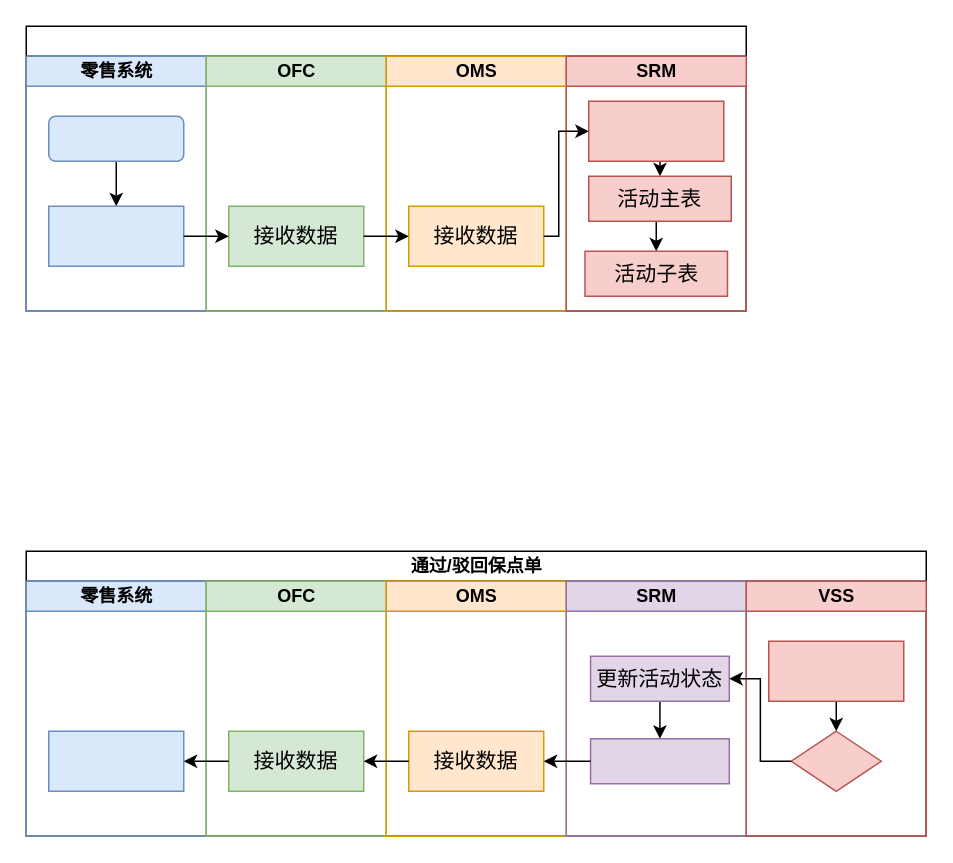
The diagram is 953 pixels wide and 863 high, and some of its shapes have lost their labels. The shapes that lost their labels are listed below. From the top down, each one's box as (x1, y1, x2, y2) in pixels, then its label:
(47, 115, 184, 161): 开始
(587, 100, 724, 161): 供应商保点优惠信息
(25, 25, 746, 311): 创建保点单
(47, 205, 184, 266): 选择 供应商承担
(767, 640, 904, 701): 审核保点单
(47, 730, 184, 791): 更新审核结果
(589, 737, 729, 784): 通知下游
(790, 730, 881, 791): 通过/驳回
